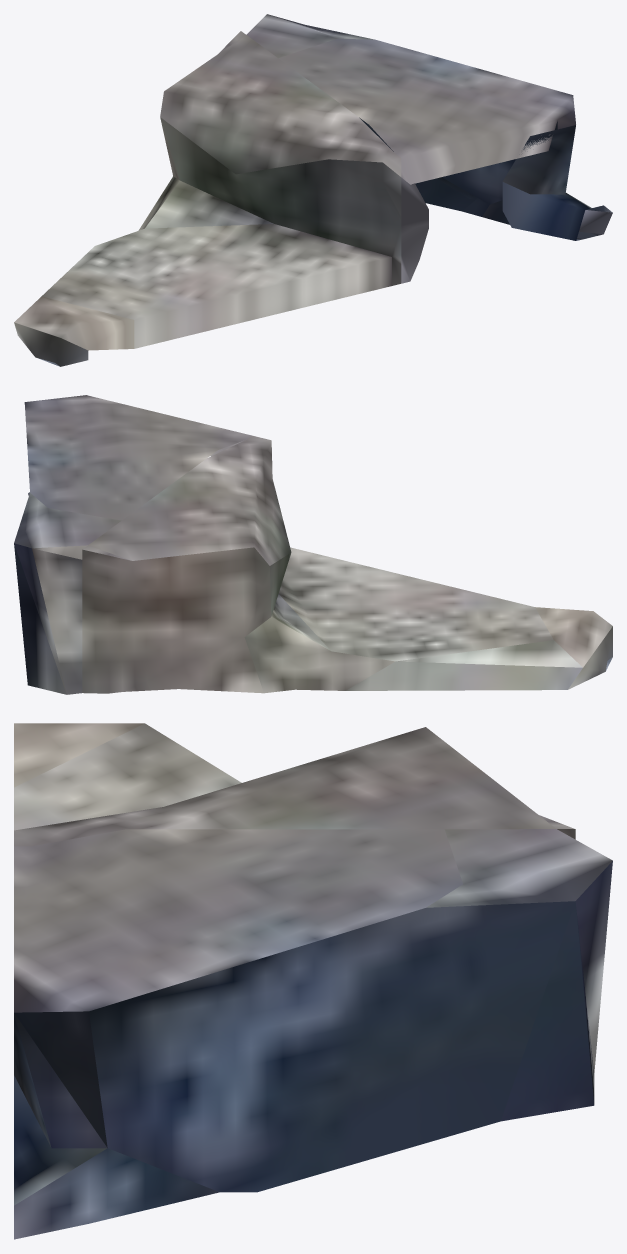
3 views of the same model, one above another, from view 1: azimuth 30°, elevation 25°; view 2: azimuth 150°, elevation 25°; view 3: azimuth 270°, elevation 25° (orthographic). The views are drawn at different scales.
Parts seen in each view (by area): view 1: 30436272704361636707_0; view 2: 30436272704361636707_0; view 3: 30436272704361636707_0.
Boxes of the visible parts, x1,y1,x2,y2 form: 30436272704361636707_0: [14, 14, 612, 366]; 30436272704361636707_0: [14, 395, 612, 694]; 30436272704361636707_0: [14, 723, 612, 1239].
Size of the model in its own units: 9.36 by 2.16 by 4.94.
1 material, 1 textured.
